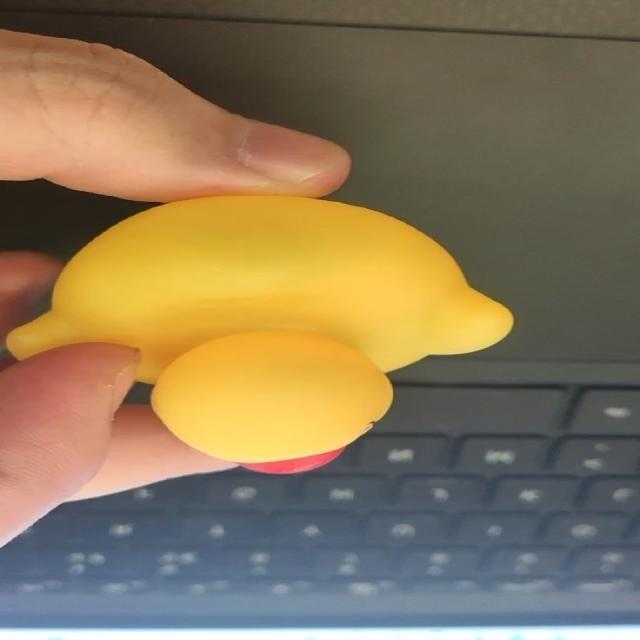rubber-duck: (6, 195, 511, 470)
